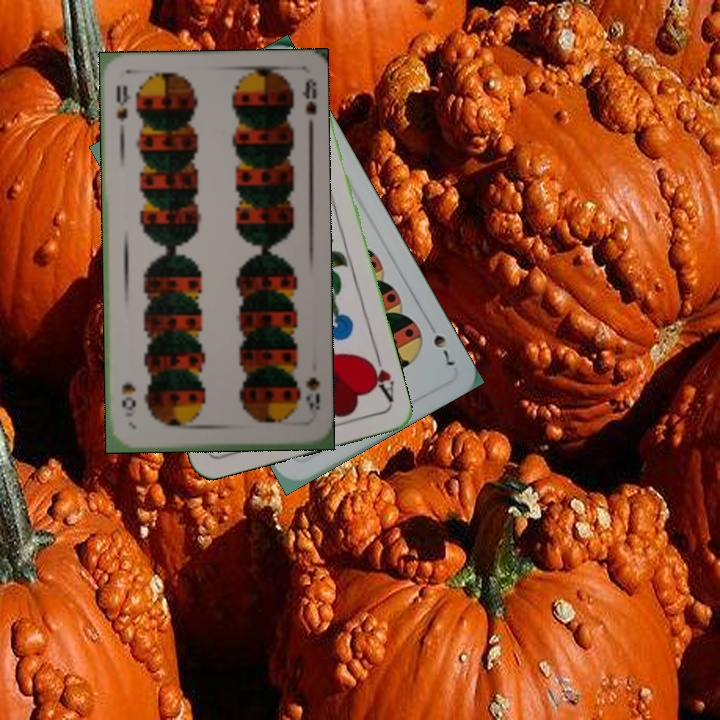HA: (362, 348, 397, 405)
S7: (429, 330, 458, 369)
S8: (112, 81, 133, 136), (302, 373, 323, 420)
